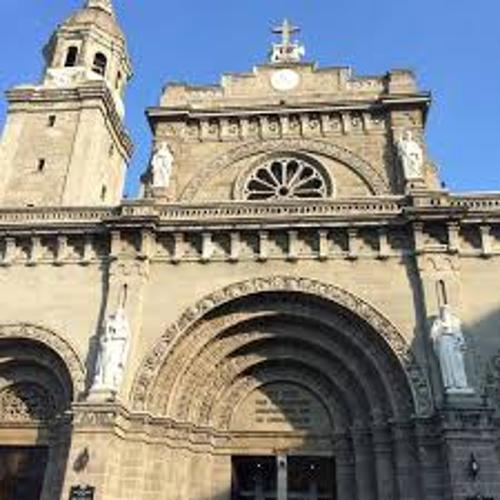Manila Cathedral Church: (4, 7, 499, 495)
